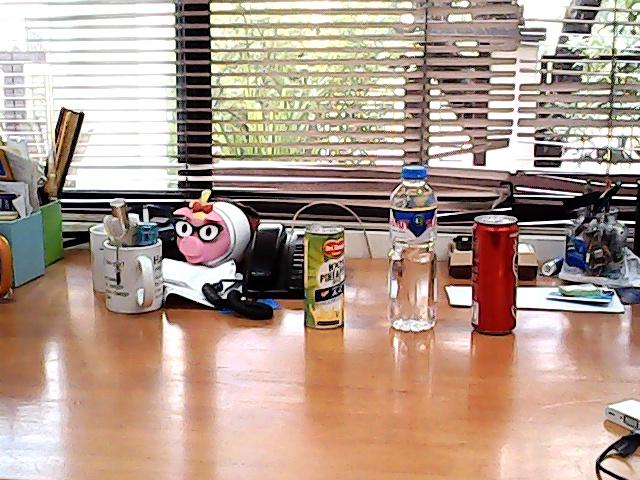Cola: (466, 207, 525, 340)
Pine Juice: (295, 219, 356, 333)
Summit Water: (384, 160, 444, 341)
